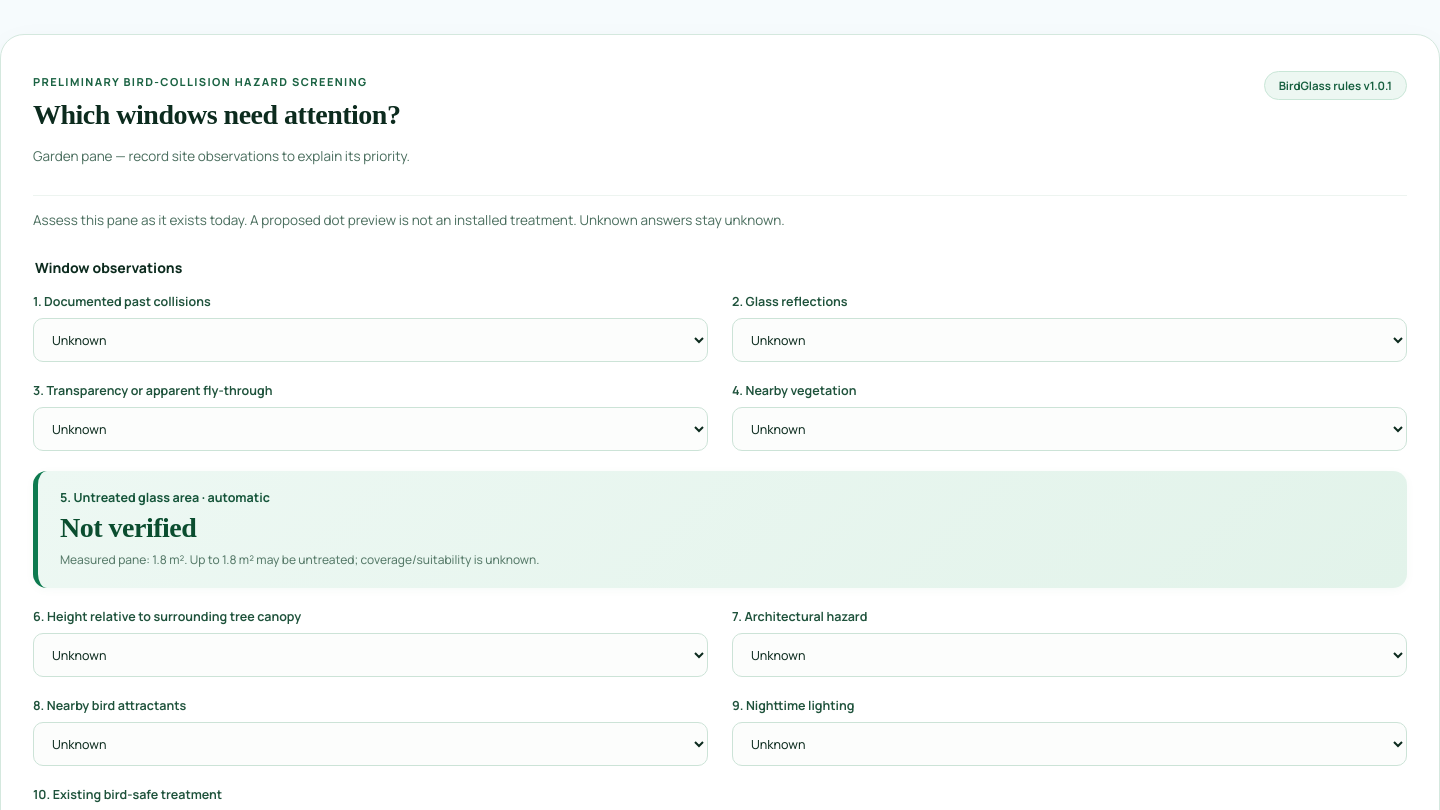
it: keeps completed known observations out of the follow-up list after input changes
This screenshot has width=1440, height=810.
Select "Strong" in the dropdown labelled "2. Glass reflections": (1070, 340) x1=732 y1=318 x2=1407 y2=362
(page scrolled)
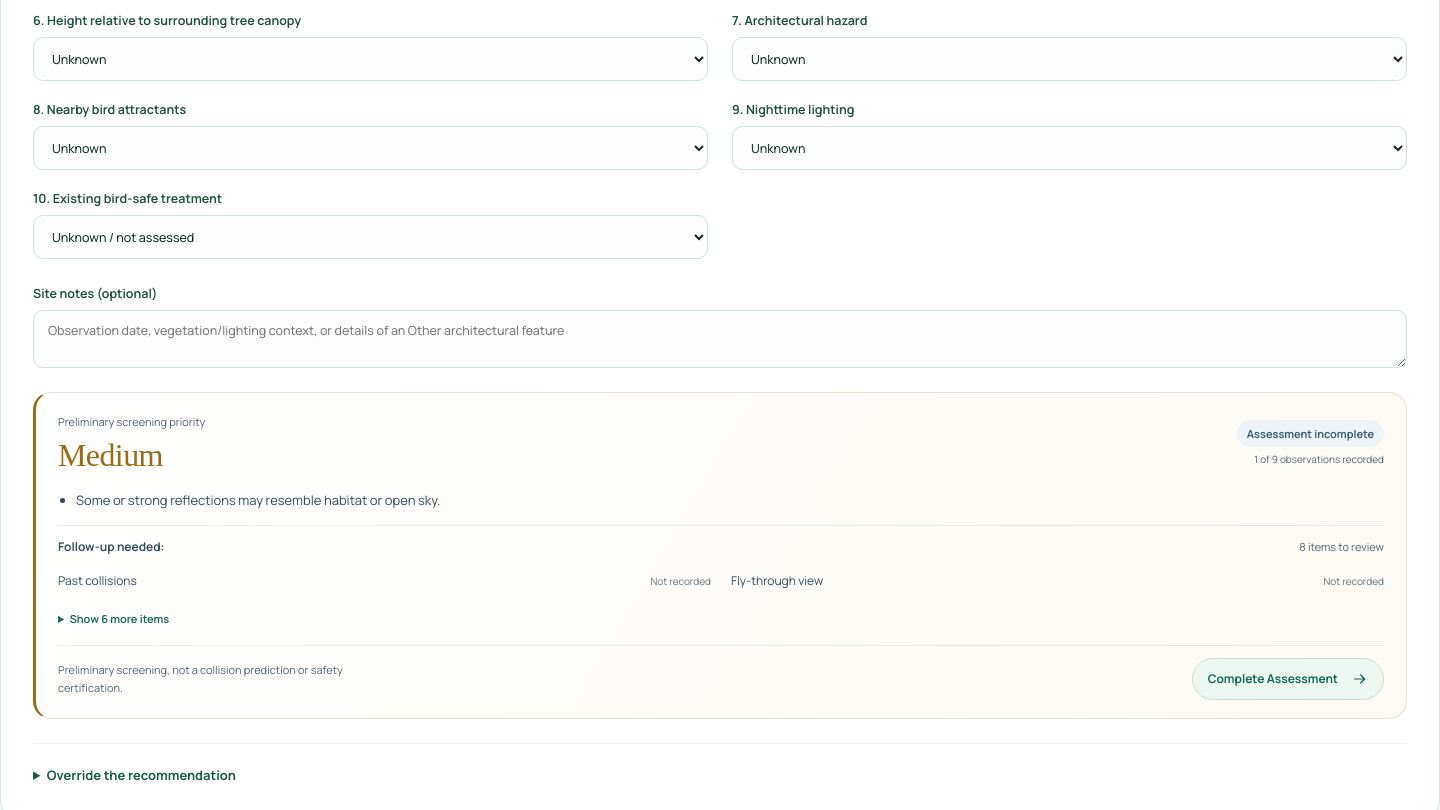
Expected: the text "Glass reflections" is not shown
Result: the text "1 of 9 observations recorded" is shown at x1=1254 y1=452 x2=1384 y2=466
Result: the heading "Medium" is shown at x1=58 y1=437 x2=163 y2=473
